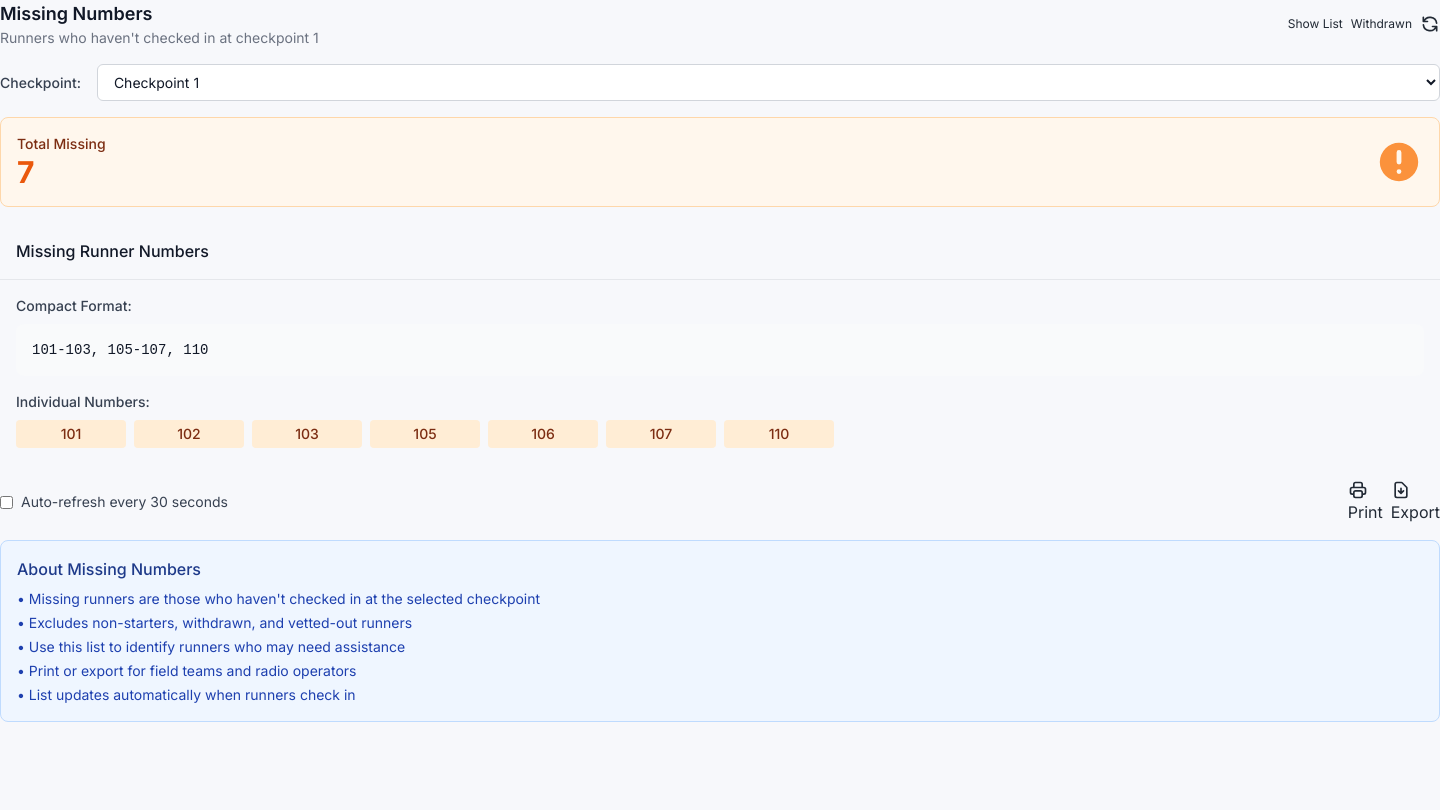
MissingNumbersList › opens missing runners modal when Show List is clicked
The image size is (1440, 810).
Click the button "Show List": (1315, 24) [1288,16,1343,32]
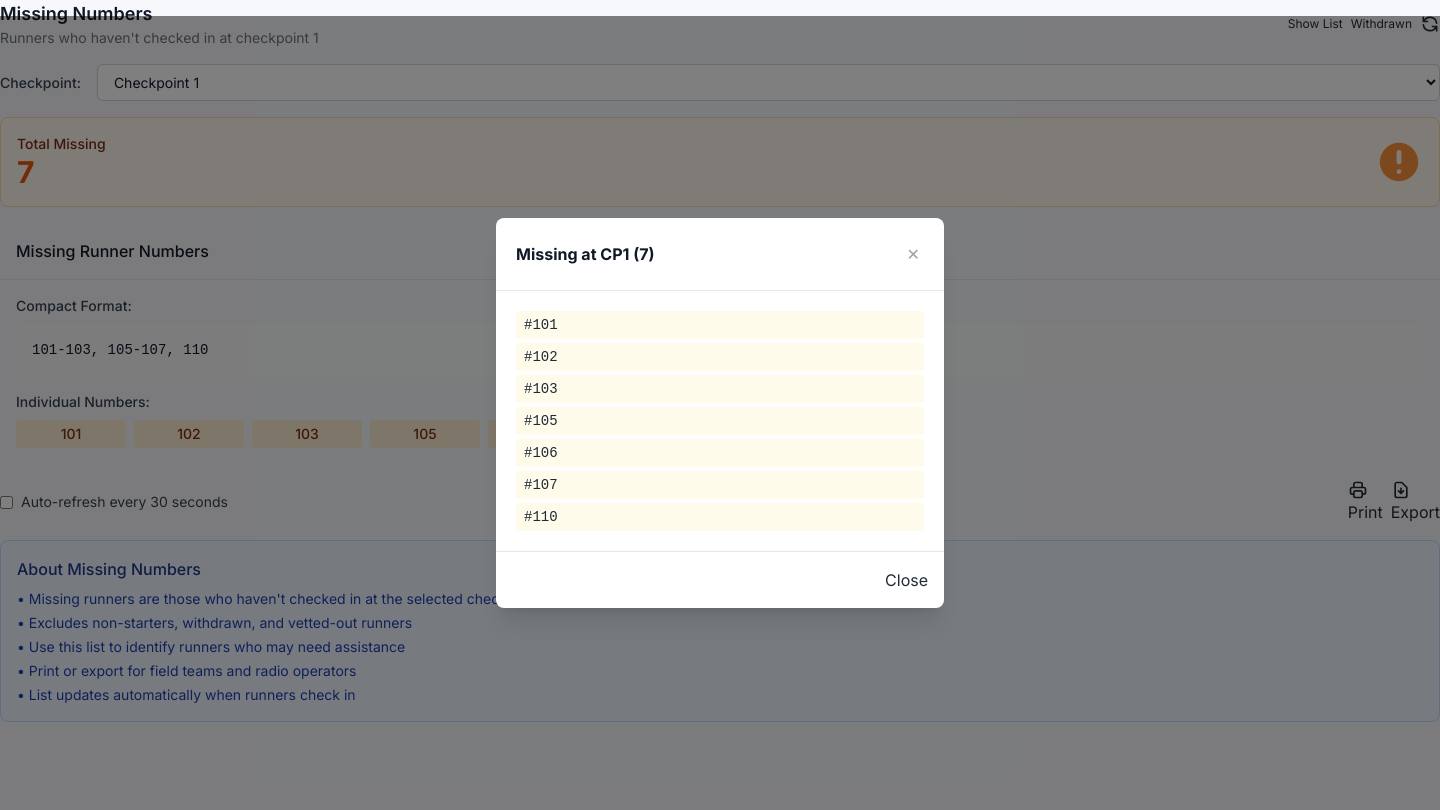
Expected: the heading "Missing at CP1 (7)" is shown, [516,242,655,266]
